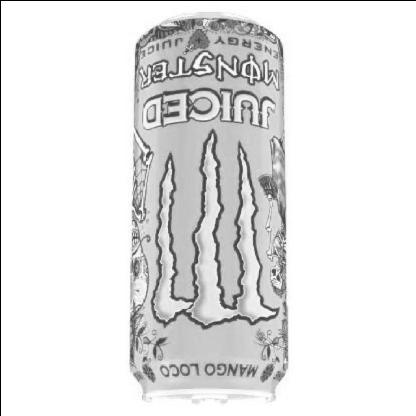alumunium_can: (127, 5, 290, 410)
